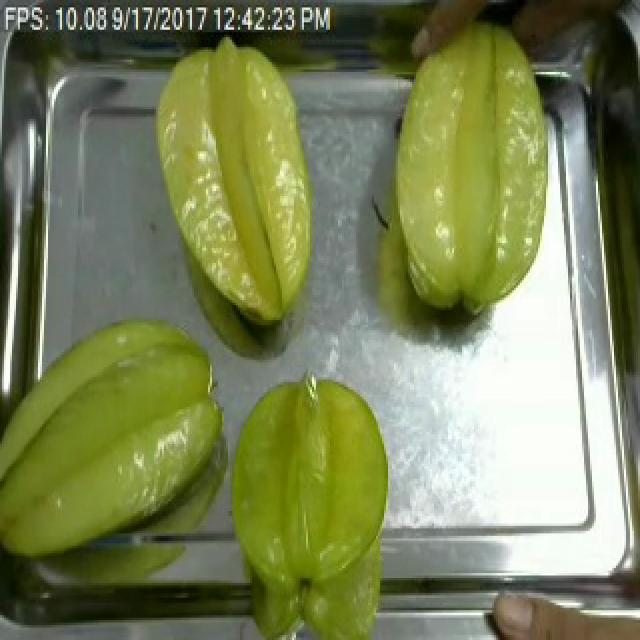fruit: (0, 303, 240, 573), (382, 5, 568, 327), (144, 32, 324, 345), (214, 364, 398, 640)
